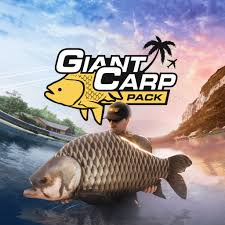carp: (23, 131, 194, 204)
